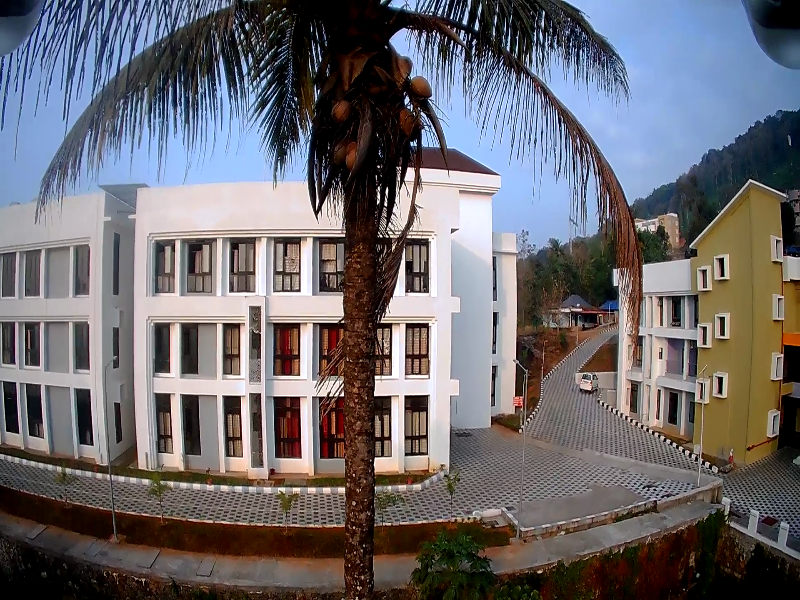coconut: (395, 107, 419, 140), (408, 73, 433, 100), (341, 134, 358, 168), (328, 98, 350, 119), (332, 141, 345, 162)
